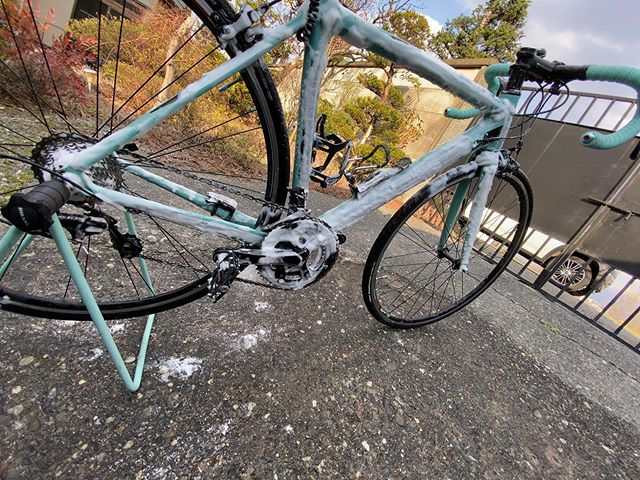bicicle: (1, 1, 640, 345)
